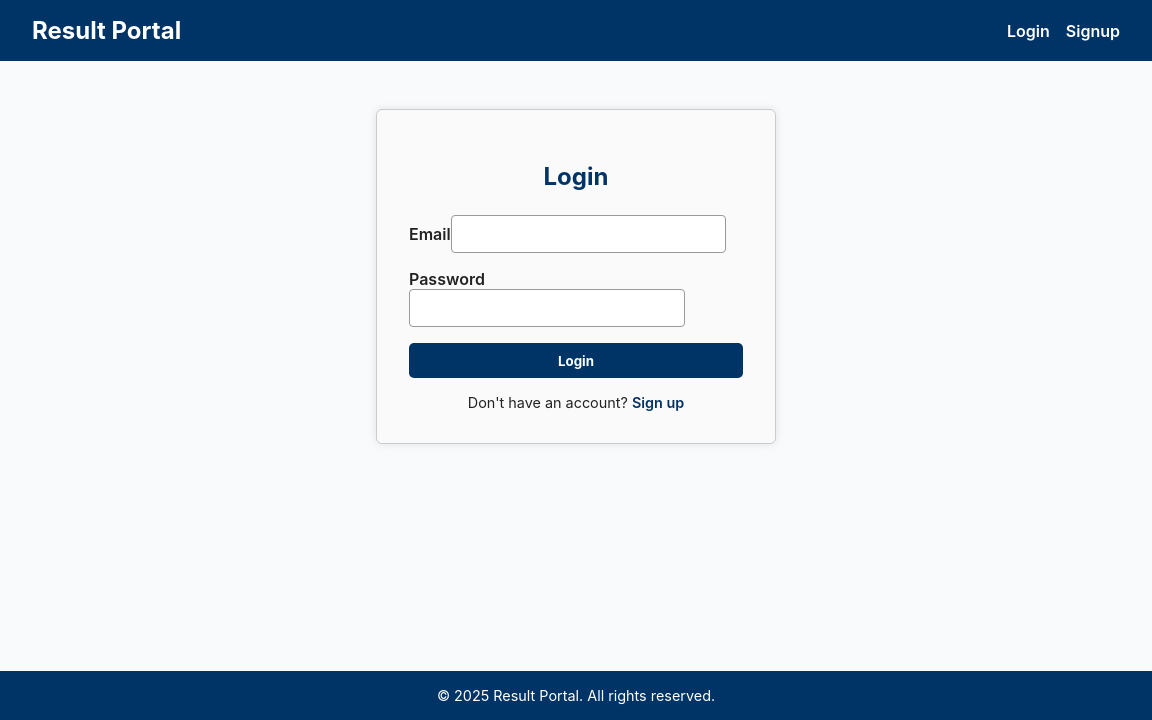
Test: Login Component › shows error when submitting empty form
Click the button "Login": {"x": 576, "y": 360} [409,343,743,378]
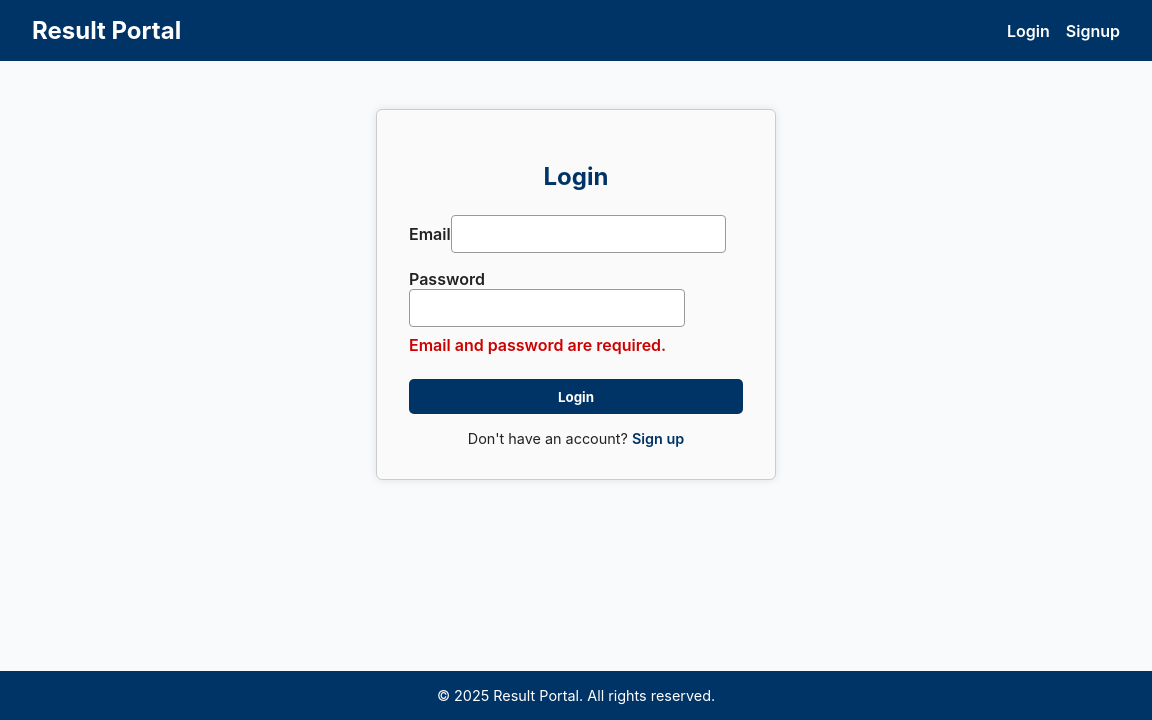
Expected: the message shows "Email and password are required", [409,335,666,355]
